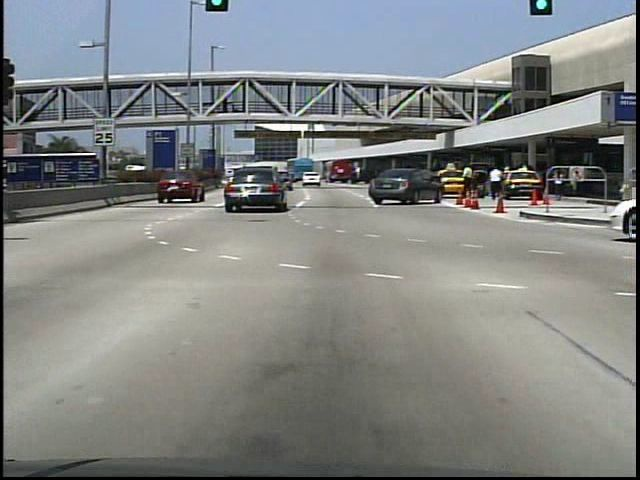person: (487, 165, 506, 203), (462, 166, 479, 205), (550, 168, 568, 204), (222, 95, 231, 116)
